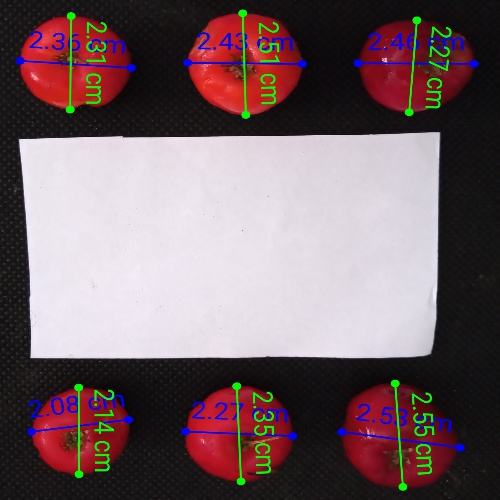acerola: (342, 385, 460, 487), (188, 14, 302, 117), (360, 21, 474, 112), (21, 16, 130, 110), (186, 386, 290, 480), (32, 389, 129, 474)
cartao: (31, 139, 436, 356)
